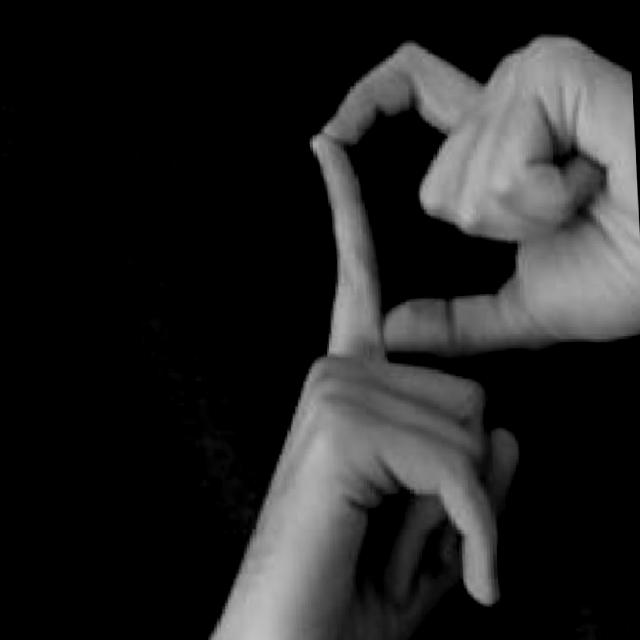D: (207, 12, 640, 640)
